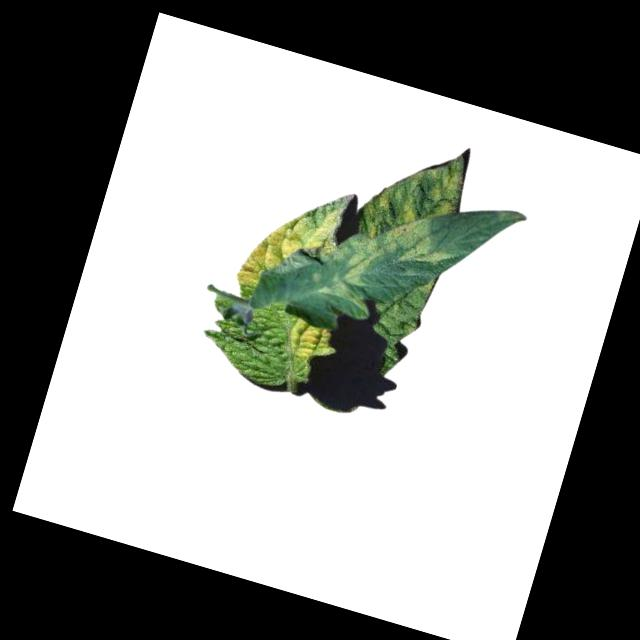Leaf_Mold: (316, 195, 459, 334), (353, 126, 474, 259), (232, 191, 342, 307), (281, 314, 344, 366)
